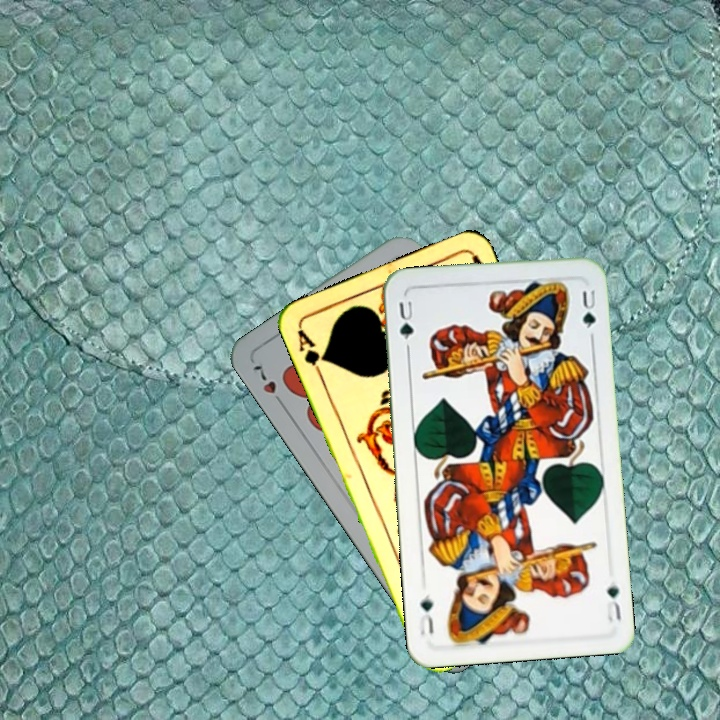GA: (293, 325, 329, 381)
GU: (394, 297, 417, 352), (602, 577, 623, 625)
H7: (248, 361, 288, 410)
